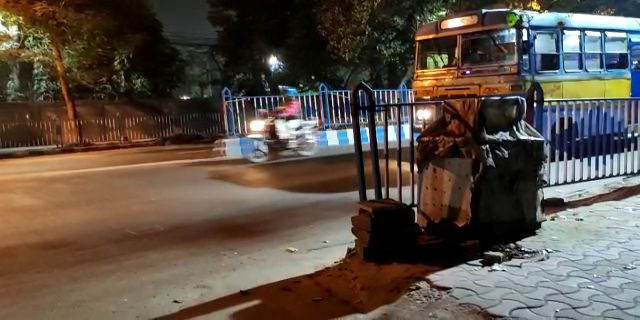Bus: (403, 10, 628, 169)
Motorbike: (244, 86, 322, 167)
